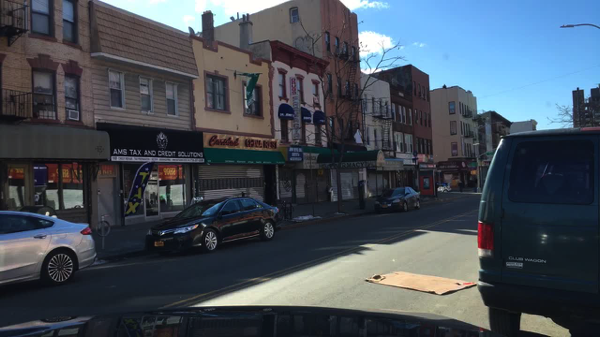car: (476, 125, 598, 337), (144, 191, 281, 252), (0, 209, 97, 286), (374, 186, 422, 213), (436, 181, 451, 194)
person: (456, 181, 462, 191)
traffic sign: (469, 169, 477, 176), (483, 153, 493, 157), (468, 162, 477, 166)
